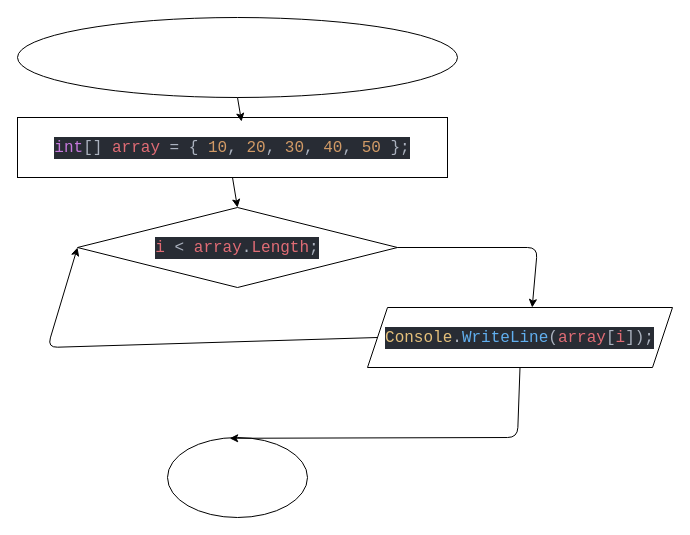
The diagram is 690 pixels wide and 535 high, and some of its shapes have lost their labels. The shapes that lost their labels are listed below. From the top down, each one's centre as x and y in pixels, then its label:
point (237, 57): Console . WriteLine ( "Вывод элементов массива" );
point (237, 477): Конец
